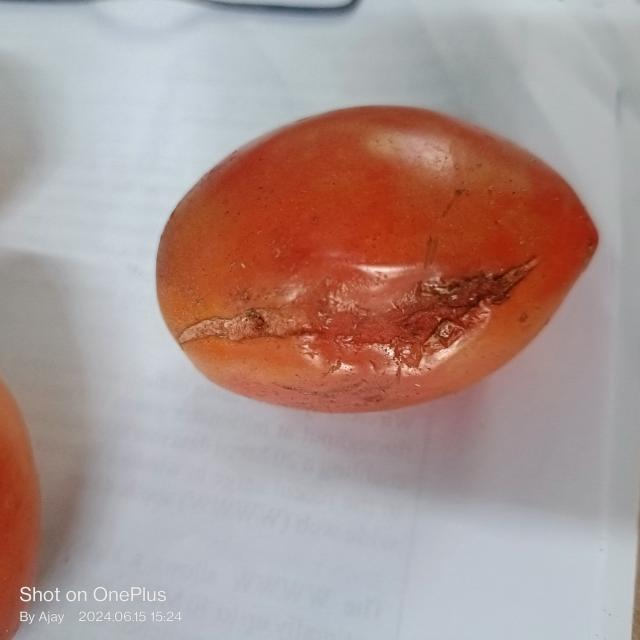tomato_cracking: (174, 255, 552, 372)
